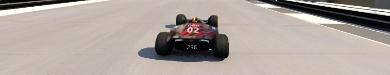Car: (154, 13, 229, 58)
